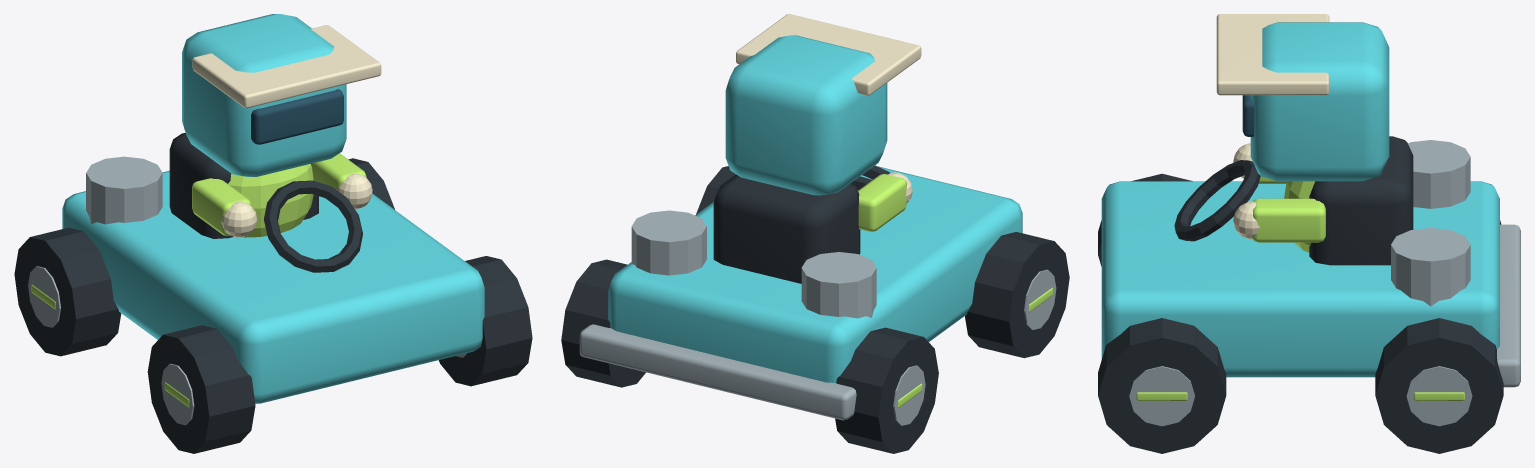
File: kart-4.glb
3 views of the same model, side by side, from view 1: azimuth 30°, elevation 25°; view 2: azimuth 150°, elevation 25°; view 3: azimuth 270°, elevation 25° (orthographic). The views are drawn at different scales.
Parts seen in each view (by area): view 1: Body.004, Helmet.004, Tire.016, Tire.017, Helmet brim, Tire.018, Turbine, Steering wheel.004, Seat.004, Visor.004, Suit.004, Sleeve.008 (+6 smaller); view 2: Body.004, Helmet.004, Seat.004, Rear bumper.004, Tire.016, Tire.017, Helmet brim, Tire.019, Turbine, Turbine.001, Sleeve.008, Hub.016 (+2 smaller); view 3: Body.004, Helmet.004, Tire.018, Tire.019, Seat.004, Helmet brim, Turbine.001, Turbine, Rear bumper.004, Steering wheel.004, Sleeve.009, Hub.018 (+7 smaller).
Boxes of the visible parts, x1=… form: Body.004: x1=62, y1=170, x2=484, y2=403; Helmet.004: x1=182, y1=14, x2=346, y2=176; Tire.016: x1=147, y1=325, x2=255, y2=453; Tire.017: x1=14, y1=227, x2=121, y2=356; Helmet brim: x1=192, y1=25, x2=381, y2=108; Tire.018: x1=439, y1=256, x2=532, y2=386; Turbine: x1=86, y1=156, x2=162, y2=224; Steering wheel.004: x1=264, y1=180, x2=362, y2=272; Seat.004: x1=169, y1=132, x2=318, y2=238; Visor.004: x1=251, y1=89, x2=343, y2=144; Suit.004: x1=228, y1=164, x2=313, y2=237; Sleeve.008: x1=192, y1=178, x2=251, y2=235; Body.004: x1=608, y1=166, x2=1022, y2=382; Helmet.004: x1=725, y1=35, x2=887, y2=195; Seat.004: x1=713, y1=174, x2=860, y2=283; Rear bumper.004: x1=579, y1=324, x2=856, y2=420; Tire.016: x1=965, y1=232, x2=1069, y2=358; Tire.017: x1=835, y1=327, x2=938, y2=453; Helmet brim: x1=736, y1=14, x2=921, y2=95; Tire.019: x1=561, y1=259, x2=645, y2=387; Turbine: x1=801, y1=252, x2=876, y2=318; Turbine.001: x1=631, y1=210, x2=706, y2=275; Sleeve.008: x1=858, y1=174, x2=906, y2=231; Hub.016: x1=1024, y1=269, x2=1056, y2=329; Body.004: x1=1101, y1=181, x2=1499, y2=377; Helmet.004: x1=1250, y1=22, x2=1389, y2=181; Tire.018: x1=1098, y1=318, x2=1226, y2=453; Tire.019: x1=1375, y1=318, x2=1503, y2=453; Seat.004: x1=1309, y1=136, x2=1413, y2=265; Helmet brim: x1=1216, y1=14, x2=1329, y2=95; Turbine.001: x1=1391, y1=228, x2=1470, y2=306; Turbine: x1=1408, y1=140, x2=1470, y2=208; Rear bumper.004: x1=1497, y1=224, x2=1520, y2=387; Steering wheel.004: x1=1174, y1=160, x2=1260, y2=241; Sleeve.009: x1=1253, y1=198, x2=1325, y2=242; Hub.018: x1=1129, y1=366, x2=1194, y2=426.
Size of the model in its own units: 2.27 by 2.1 by 2.44.
